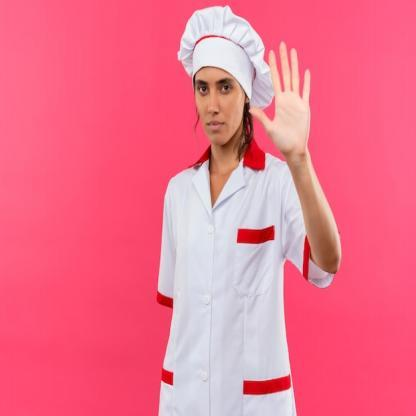stop: (249, 37, 315, 161)
